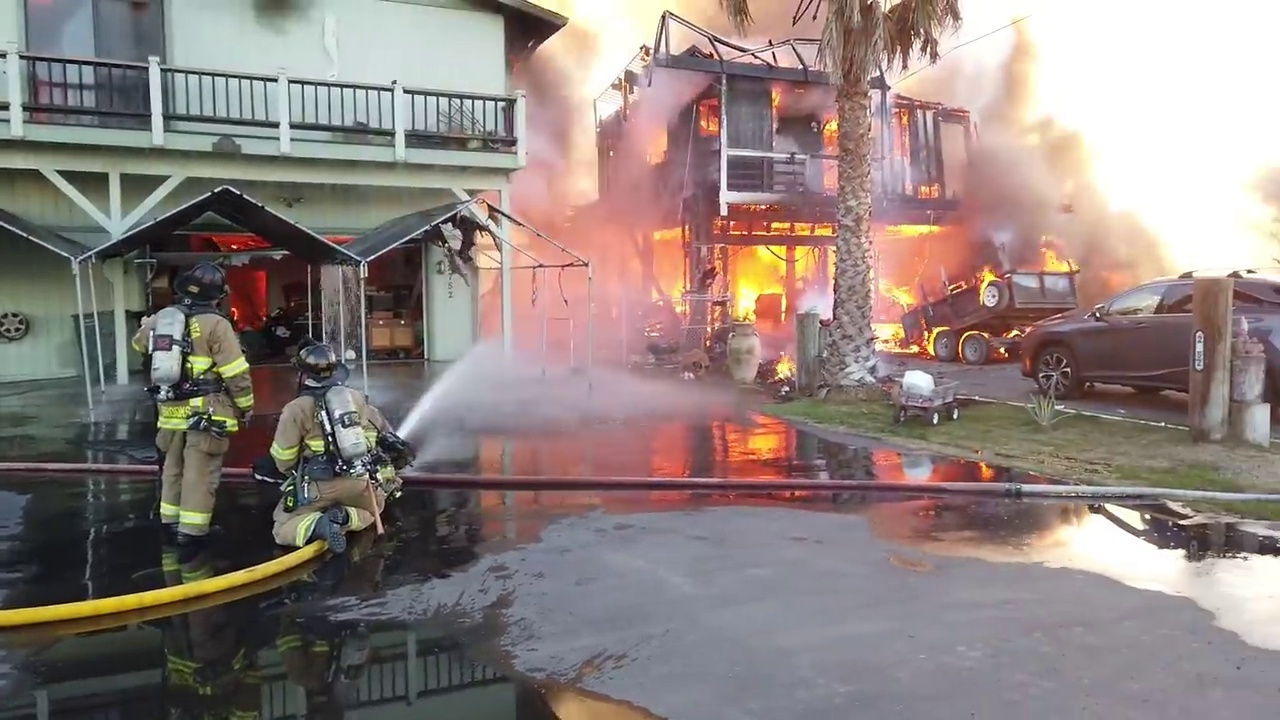fire: (721, 241, 833, 325), (722, 216, 947, 241), (870, 322, 988, 368), (887, 109, 945, 200), (869, 244, 927, 309), (975, 268, 1010, 317), (815, 98, 846, 151), (697, 80, 724, 138), (757, 347, 799, 384), (1039, 243, 1078, 269), (770, 81, 786, 117)
smoke: (946, 14, 1163, 265), (521, 171, 664, 367), (1140, 162, 1280, 285), (516, 44, 600, 172), (600, 67, 722, 151), (665, 1, 827, 55), (599, 6, 666, 64)
